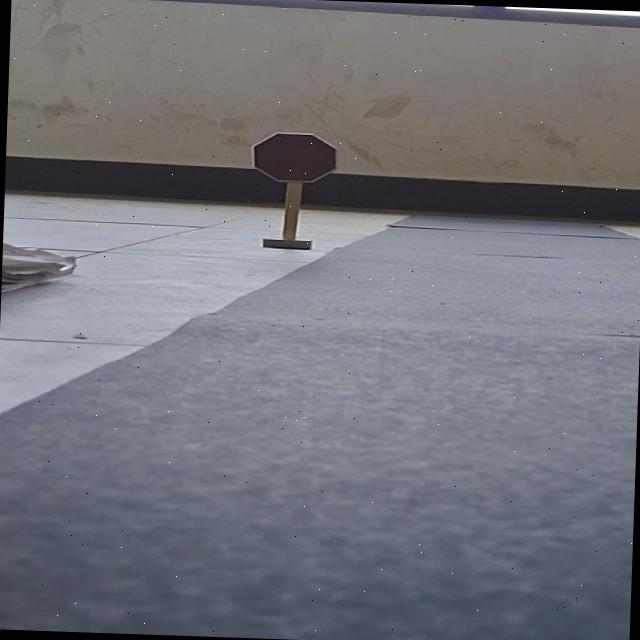Stop: (250, 130, 338, 183)
